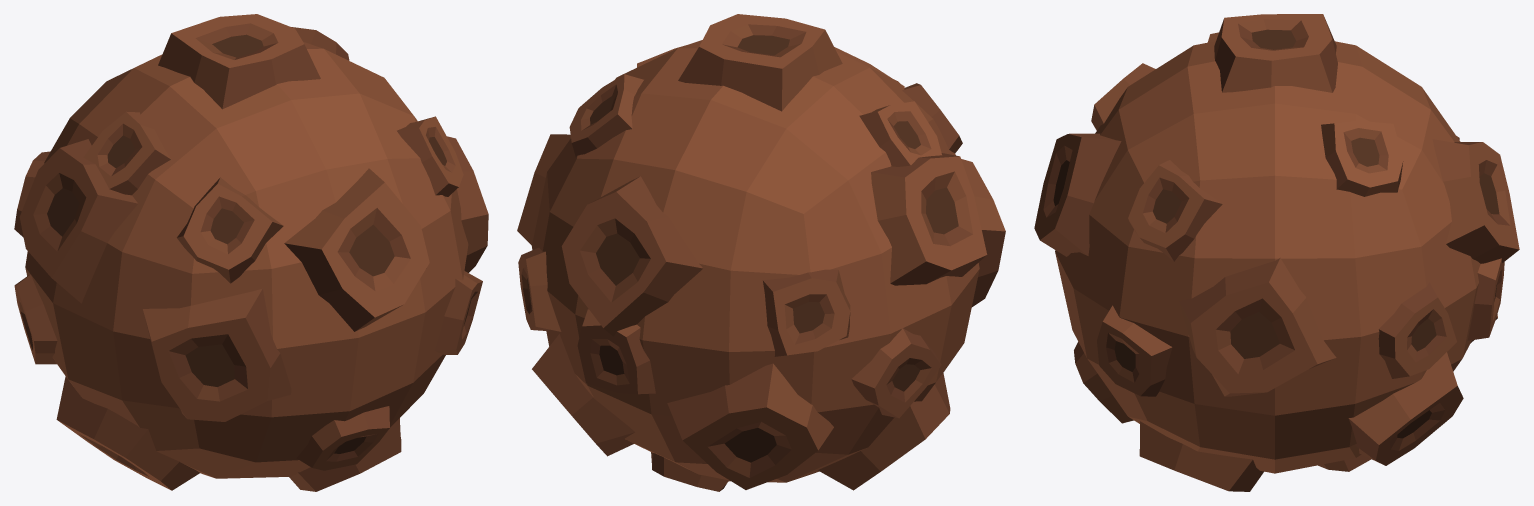
File: SM_Env_Meteor_03.fbx
3 renders of one model, left to right at view 1: azimuth 30°, elevation 25°; view 2: azimuth 150°, elevation 25°; view 3: azimuth 270°, elevation 25°, orthographic. The views are drawn at different scales.
Visible parts, largest first — view 1: SM_Env_Meteor_03; view 2: SM_Env_Meteor_03; view 3: SM_Env_Meteor_03.
Boxes of the visible parts, x1,y1,x2,y2 form: SM_Env_Meteor_03: (14,14,488,491); SM_Env_Meteor_03: (517,14,1005,491); SM_Env_Meteor_03: (1034,14,1519,491).
Bounding box in the file's own units: 22.06 × 21.47 × 22.13.
